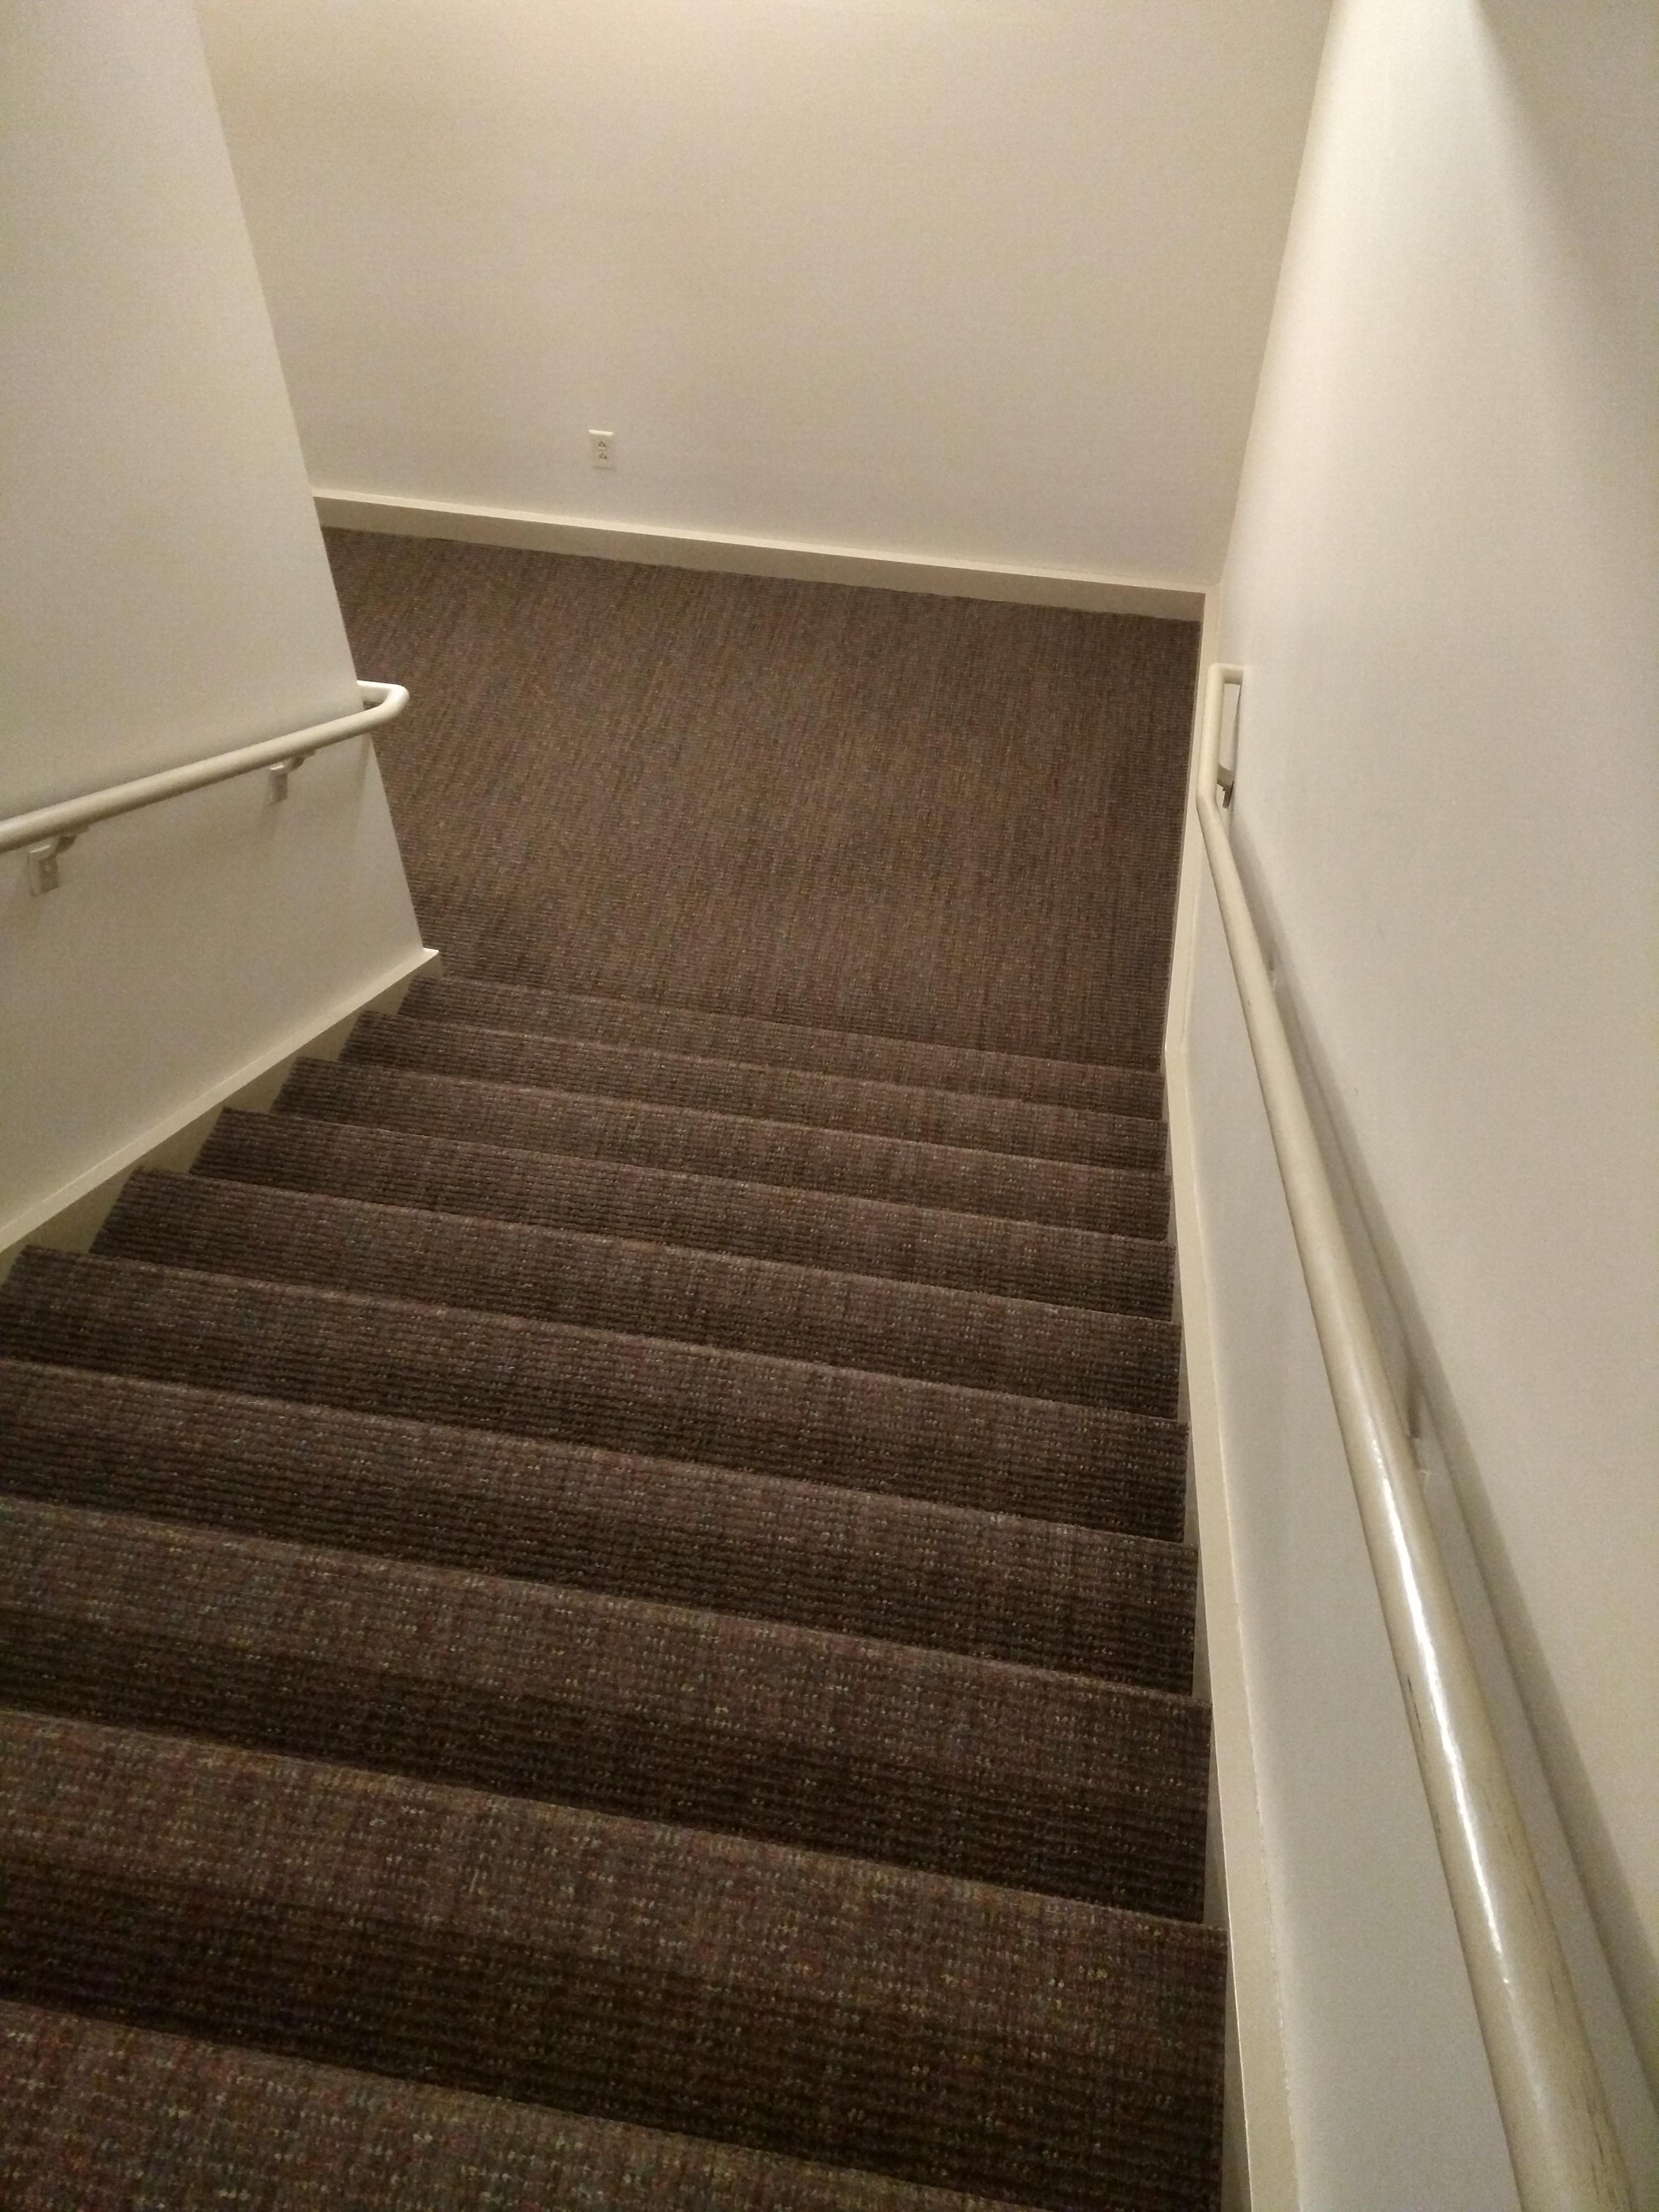stairs_down: (0, 1008, 1192, 2212)
